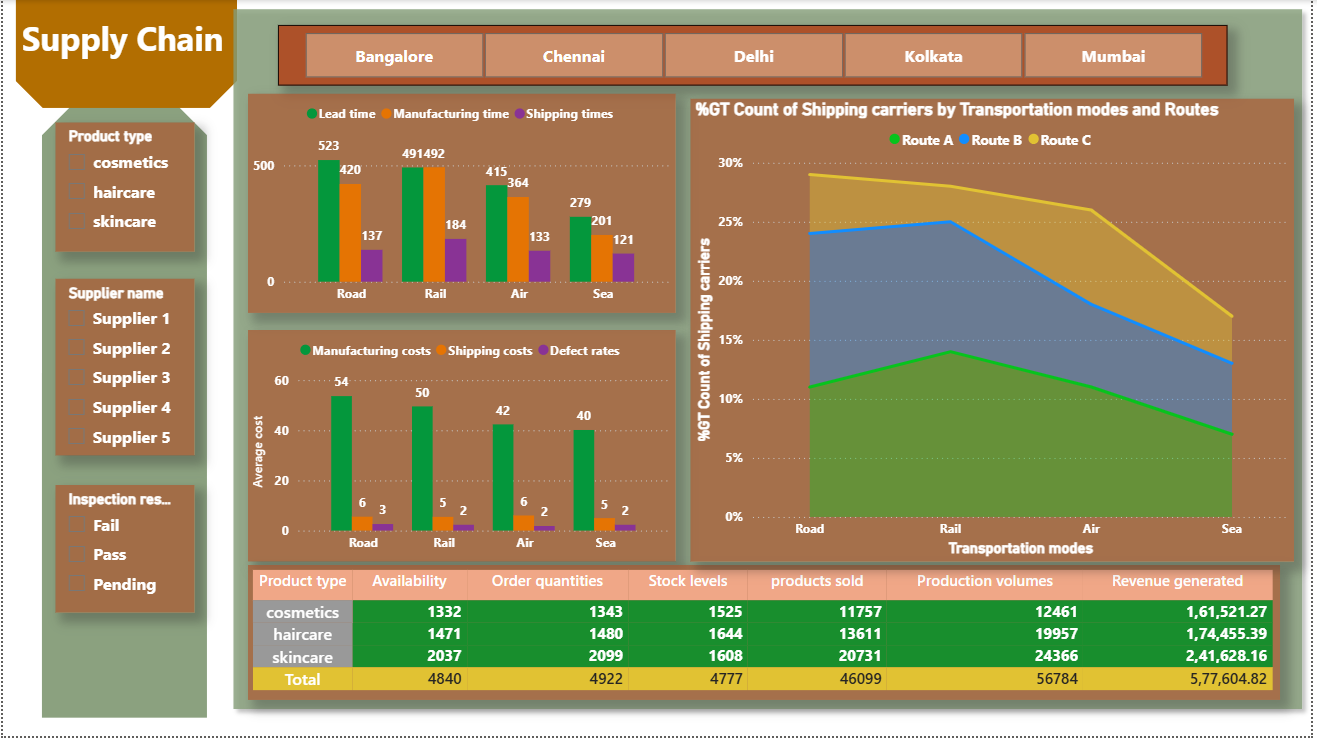

The page's visual inventory and layout, read from the dashboard file:
{"tool":"powerbi","page":{"name":"Page 2","canvas":[1280,720],"ordinal":1},"visuals":[{"type":"shape","box":[38.4,91.9,161.9,610.6],"z":0},{"type":"shape","box":[12.3,0,216.8,105.7],"z":1000},{"type":"textbox","box":[13.7,11,212.7,63.1],"z":2000},{"type":"slicer","fields":{"Values":["supply_chain_data.Product type"]},"box":[50.8,119.4,135.8,126.2],"z":3000},{"type":"slicer","fields":{"Values":["supply_chain_data.Supplier name"]},"box":[50.8,273.1,135.8,172.9],"z":4000},{"type":"slicer","fields":{"Values":["supply_chain_data.Inspection results"]},"box":[50.8,474.8,135.8,124.9],"z":5000},{"type":"shape","box":[216.8,0,1063.5,702.6],"z":6000},{"type":"slicer","fields":{"Values":["supply_chain_data.Location"]},"box":[269,24.7,929,59],"z":7000},{"type":"clusteredColumnChart","fields":{"Y":["Avg(supply_chain_data.Manufacturing costs)","Avg(supply_chain_data.Shipping costs)","Avg(supply_chain_data.Defect rates)"],"Category":["supply_chain_data.Transportation modes"]},"box":[240.1,322.5,418.5,226.4],"z":8000},{"type":"pivotTable","fields":{"Rows":["supply_chain_data.Product type"],"Values":["Sum(supply_chain_data.Availability)","Sum(supply_chain_data.Order quantities)","Sum(supply_chain_data.Stock levels)","Sum(supply_chain_data.Number of products sold)","Sum(supply_chain_data.Production volumes)","Sum(supply_chain_data.Revenue generated)"]},"box":[240.1,553,1010,131.7],"z":9000},{"type":"clusteredColumnChart","fields":{"Category":["supply_chain_data.Transportation modes"],"Y":["Sum(supply_chain_data.Lead time)","Sum(supply_chain_data.Manufacturing lead time)","Sum(supply_chain_data.Shipping times)"]},"box":[240.1,91.9,418.5,214.1],"z":10000},{"type":"stackedAreaChart","fields":{"Category":["supply_chain_data.Transportation modes"],"Series":["supply_chain_data.Routes"],"Y":["CountNonNull(supply_chain_data.Shipping carriers)"]},"box":[672.4,96.1,590.1,452.8],"z":10001}]}

Visuals, with their boxes in screenshot pixels (x1, y1, x2, y2), scaled from the page's 1280x720 canvas onto the 1317x740 screenshot:
shape: {"left": 40, "top": 94, "right": 206, "bottom": 722}
shape: {"left": 13, "top": 0, "right": 236, "bottom": 109}
textbox: {"left": 14, "top": 11, "right": 233, "bottom": 76}
slicer - supply_chain_data.Product type: {"left": 52, "top": 123, "right": 192, "bottom": 252}
slicer - supply_chain_data.Supplier name: {"left": 52, "top": 281, "right": 192, "bottom": 458}
slicer - supply_chain_data.Inspection results: {"left": 52, "top": 488, "right": 192, "bottom": 616}
shape: {"left": 223, "top": 0, "right": 1316, "bottom": 722}
slicer - supply_chain_data.Location: {"left": 277, "top": 25, "right": 1233, "bottom": 86}
clusteredColumnChart - Avg(supply_chain_data.Manufacturing costs) x Avg(supply_chain_data.Shipping costs): {"left": 247, "top": 331, "right": 678, "bottom": 564}
pivotTable - supply_chain_data.Product type x Sum(supply_chain_data.Availability): {"left": 247, "top": 568, "right": 1286, "bottom": 704}
clusteredColumnChart - supply_chain_data.Transportation modes x Sum(supply_chain_data.Lead time): {"left": 247, "top": 94, "right": 678, "bottom": 314}
stackedAreaChart - supply_chain_data.Transportation modes x supply_chain_data.Routes: {"left": 692, "top": 99, "right": 1299, "bottom": 564}
